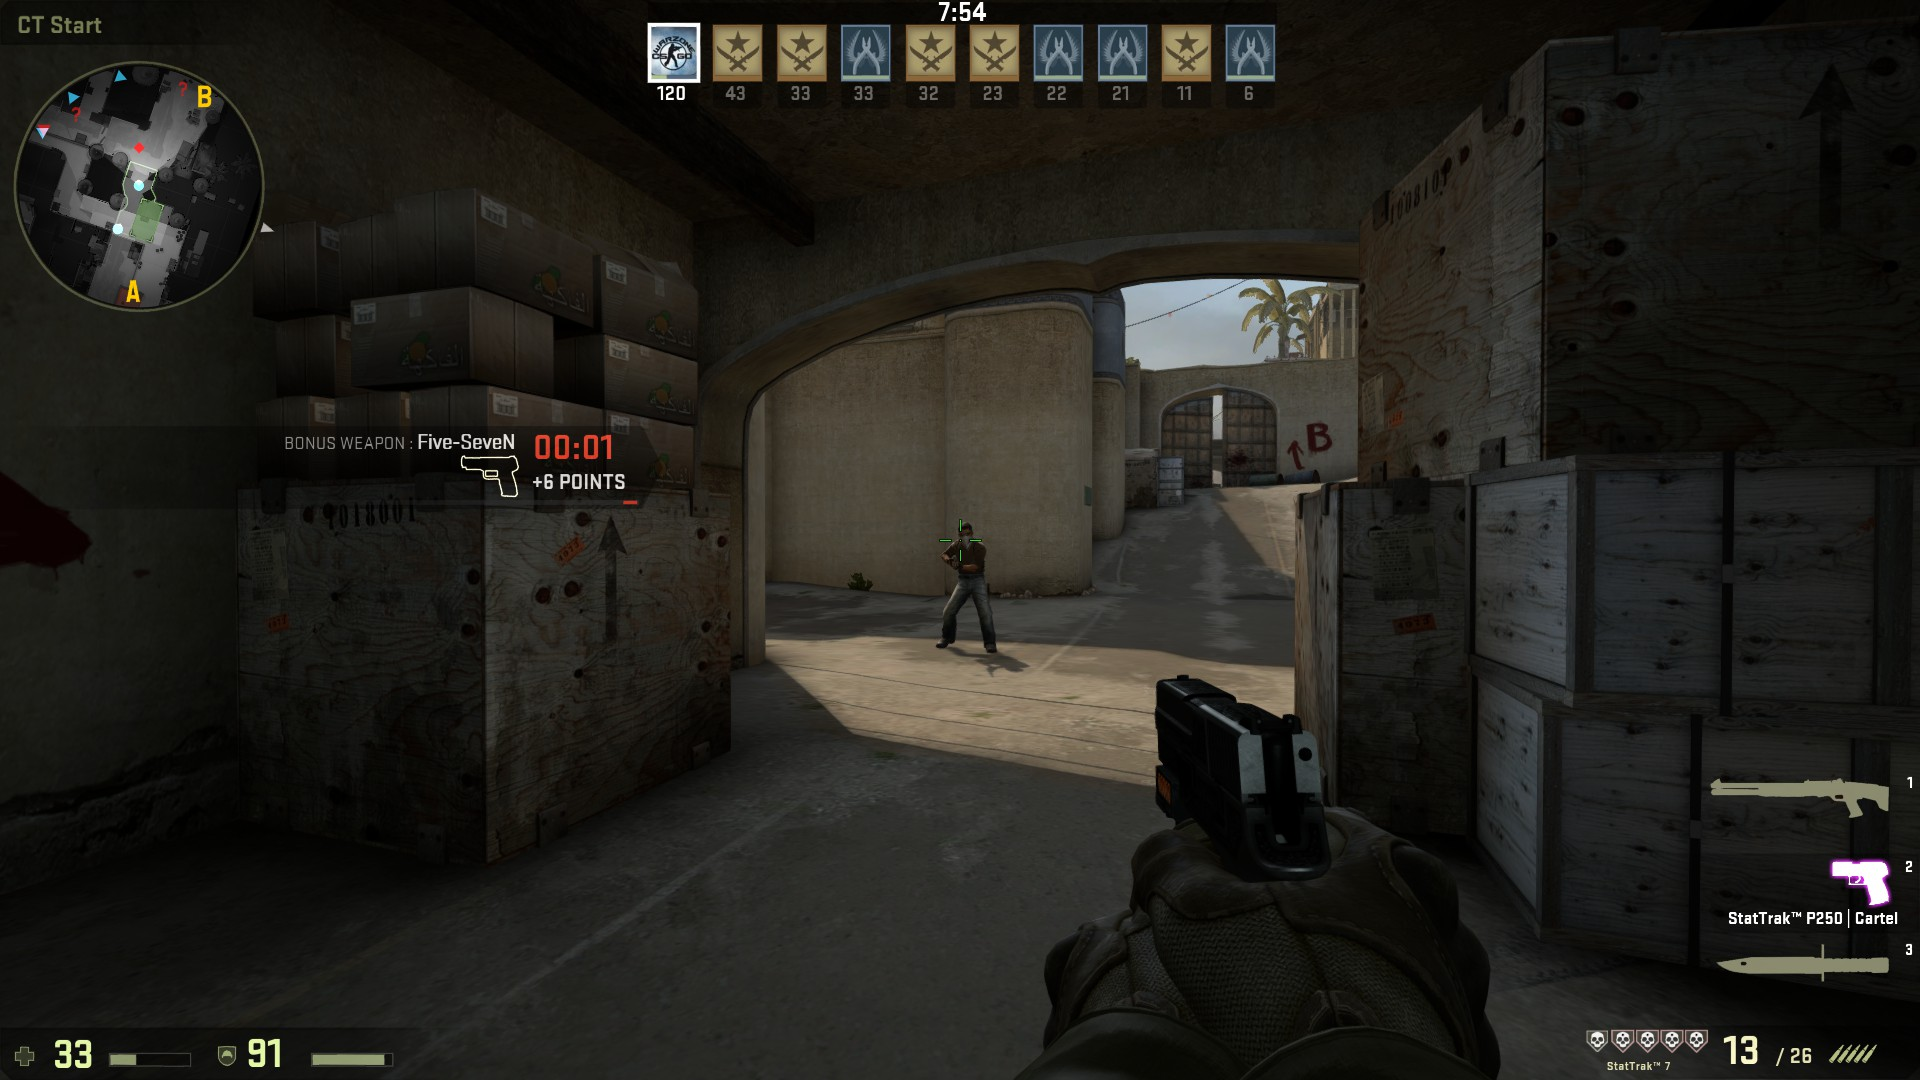t: (938, 517, 998, 650)
th: (953, 520, 977, 549)
